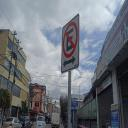NoEstacionar: (59, 10, 82, 75)
